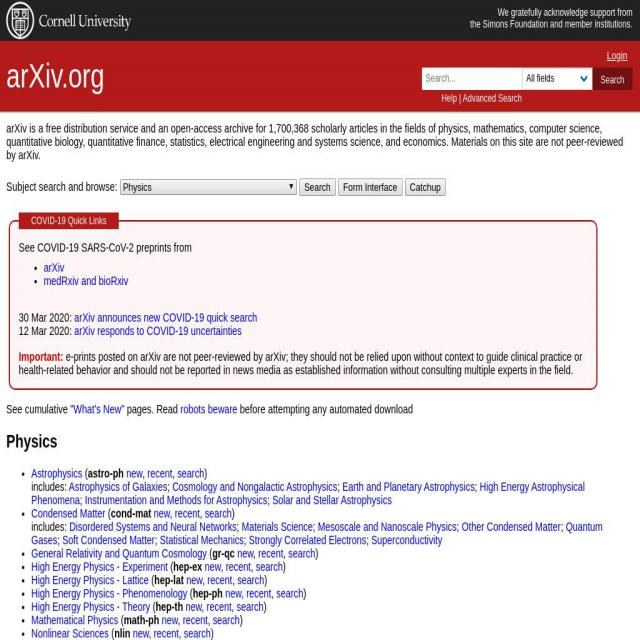login-option: (604, 42, 634, 70)
navigation-links: (19, 458, 630, 640), (21, 258, 278, 342)
search: (5, 165, 474, 210), (417, 63, 640, 104)
